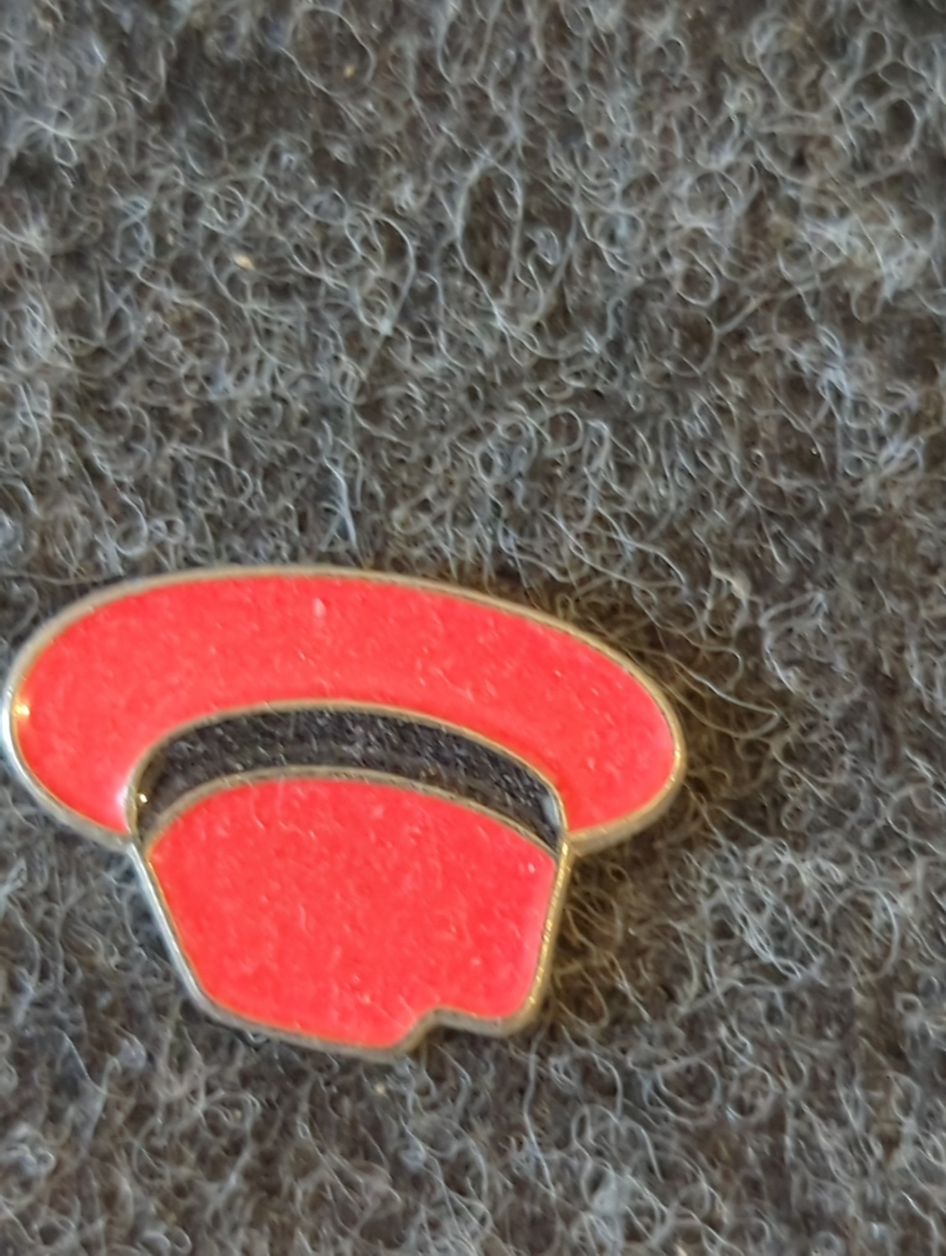Red-Hat: (0, 431, 745, 1140)
